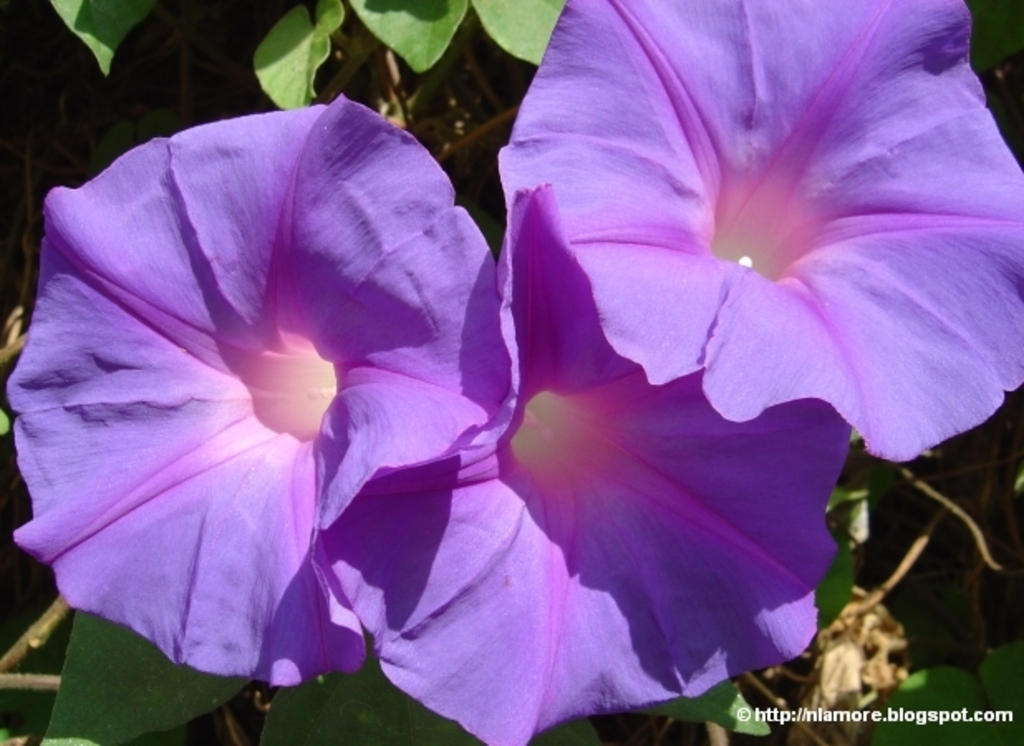face: (307, 137, 465, 315)
